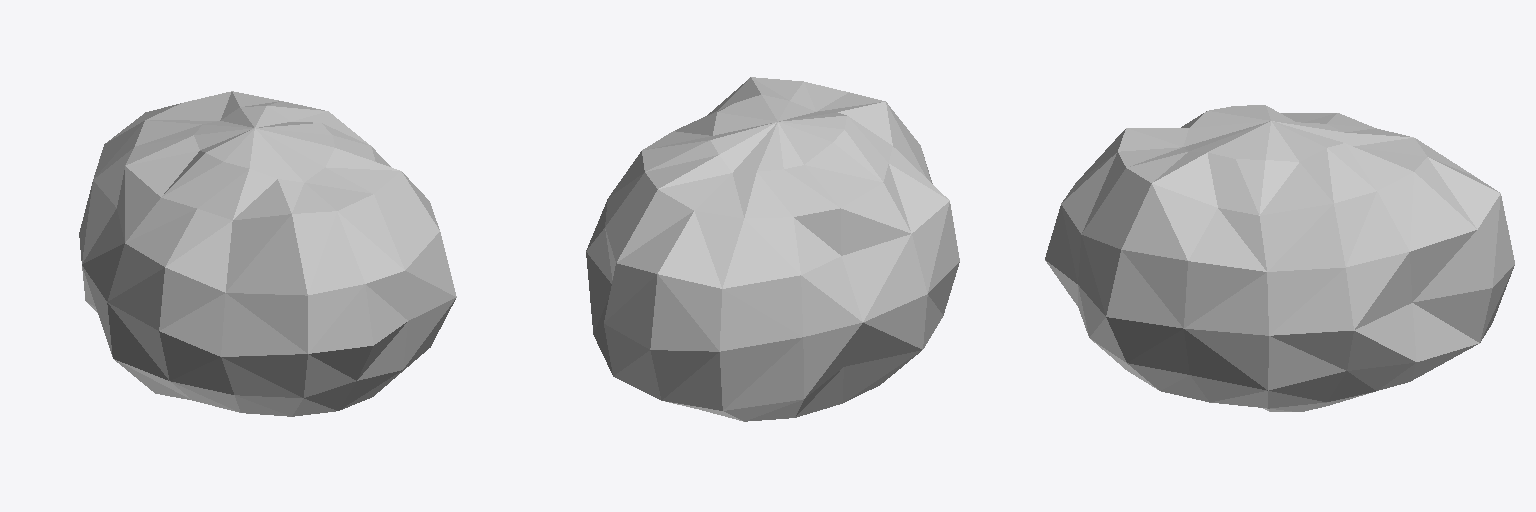
The model's file is SweetPotato.obj.
3 views of the same model, side by side, from view 1: azimuth 30°, elevation 25°; view 2: azimuth 150°, elevation 25°; view 3: azimuth 270°, elevation 25° (orthographic).
Visible parts, largest first — view 1: Sphere; view 2: Sphere; view 3: Sphere.
Boxes of the visible parts, x1,y1,x2,y2 form: Sphere: [79, 91, 456, 416]; Sphere: [586, 77, 959, 421]; Sphere: [1045, 105, 1514, 411].
Bounding box in the file's own units: 2.06 × 1.69 × 2.72.